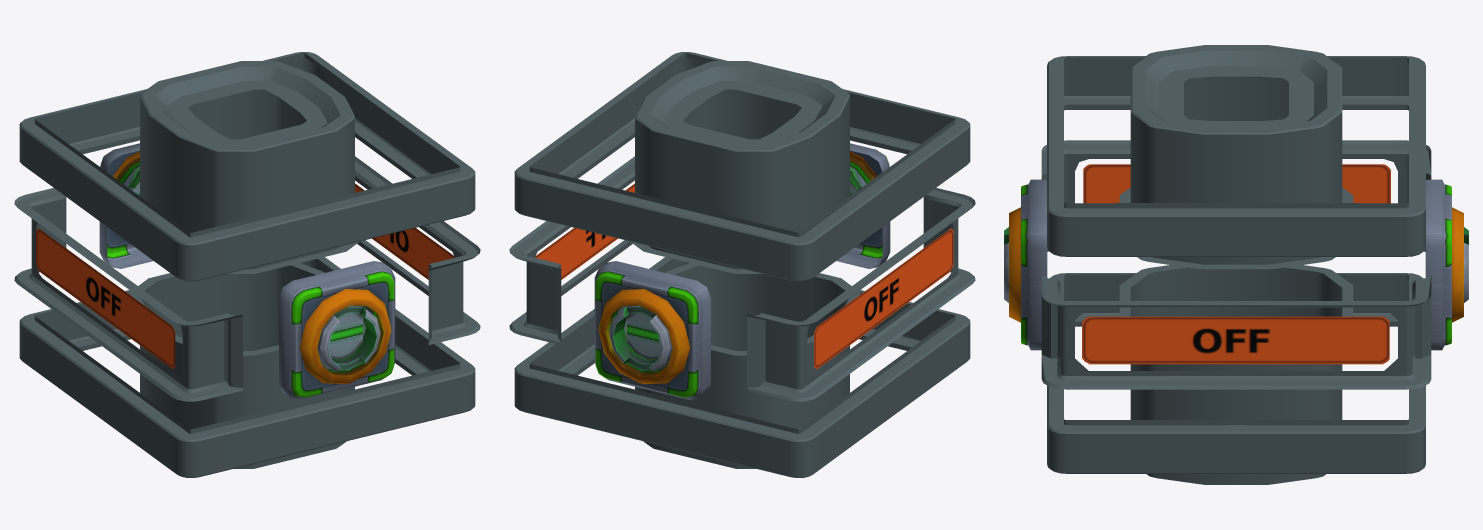
File: fant_autocrafter_1.obj
3 renders of one model, left to right at view 1: azimuth 30°, elevation 25°; view 2: azimuth 150°, elevation 25°; view 3: azimuth 270°, elevation 25°, orthographic. The views are drawn at different scales.
Visible parts, largest first — view 1: Fant_Autocrafter_Cube.001; view 2: Fant_Autocrafter_Cube.001; view 3: Fant_Autocrafter_Cube.001.
Boxes of the visible parts, left/top/right/bottom form: Fant_Autocrafter_Cube.001: left=14, top=52, right=480, bottom=477; Fant_Autocrafter_Cube.001: left=509, top=52, right=975, bottom=477; Fant_Autocrafter_Cube.001: left=1004, top=45, right=1468, bottom=484.
Bounding box in the file's own units: 5 × 5 × 5.96.
